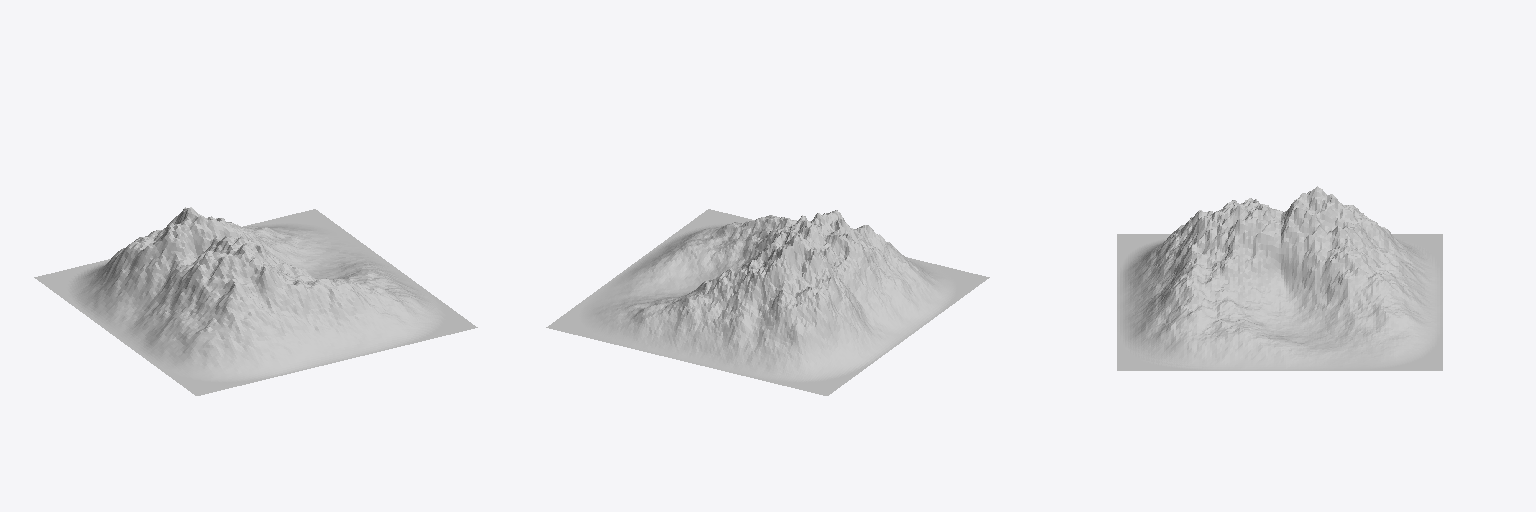
File: landscope.obj
3 views of the same model, side by side, from view 1: azimuth 30°, elevation 25°; view 2: azimuth 150°, elevation 25°; view 3: azimuth 270°, elevation 25° (orthographic).
Visible parts, largest first — view 1: Landscape; view 2: Landscape; view 3: Landscape.
Part boxes in pixels (left/top/right/bottom): Landscape: left=34, top=207, right=477, bottom=395; Landscape: left=546, top=209, right=989, bottom=395; Landscape: left=1117, top=186, right=1442, bottom=370.
Size of the model in its own units: 2 by 0.6338 by 2.